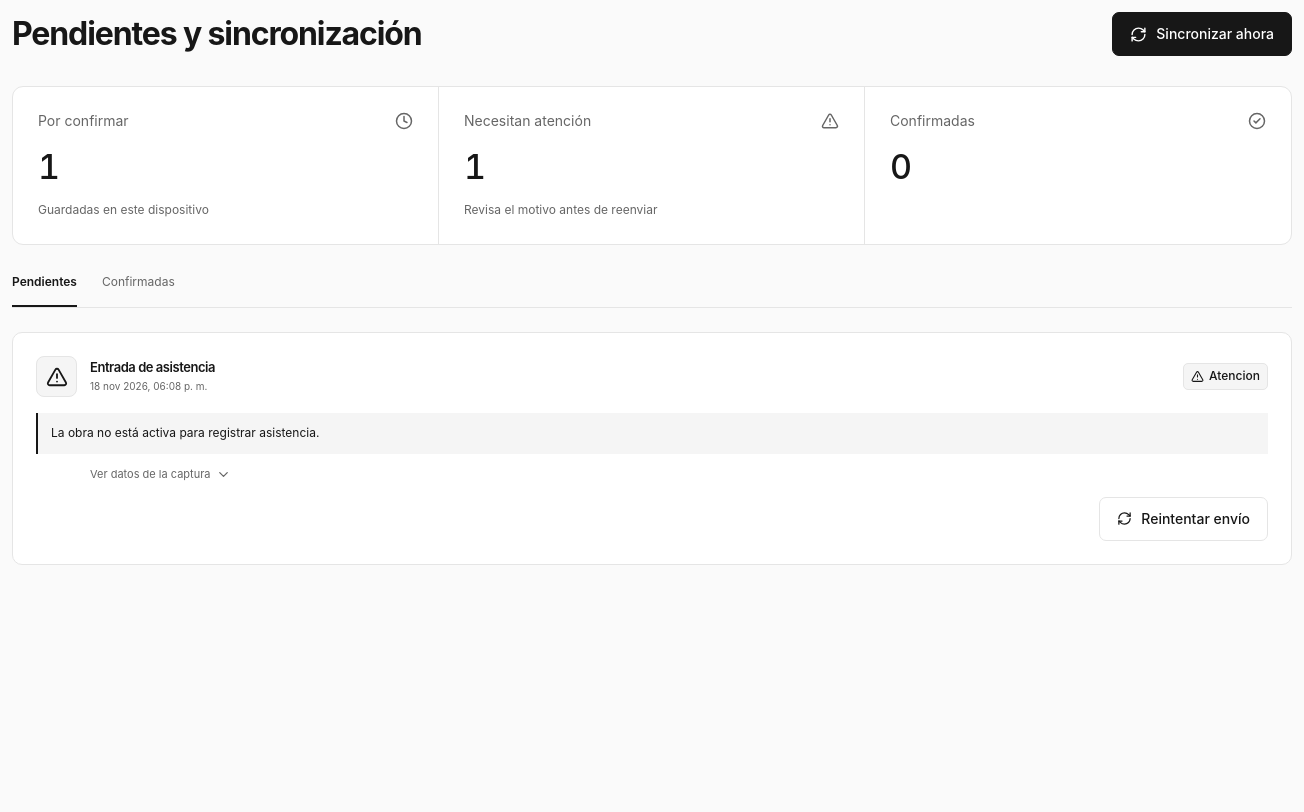
Test: conserva el motivo de un pendiente y muestra fechas legibles sin volcar el envío
Expected: the text "La obra no está activa para registrar asistencia." is shown, [36,413,1268,454]
Click the heading "Ver datos de la captura" at (161, 474), box [90,467,232,482]
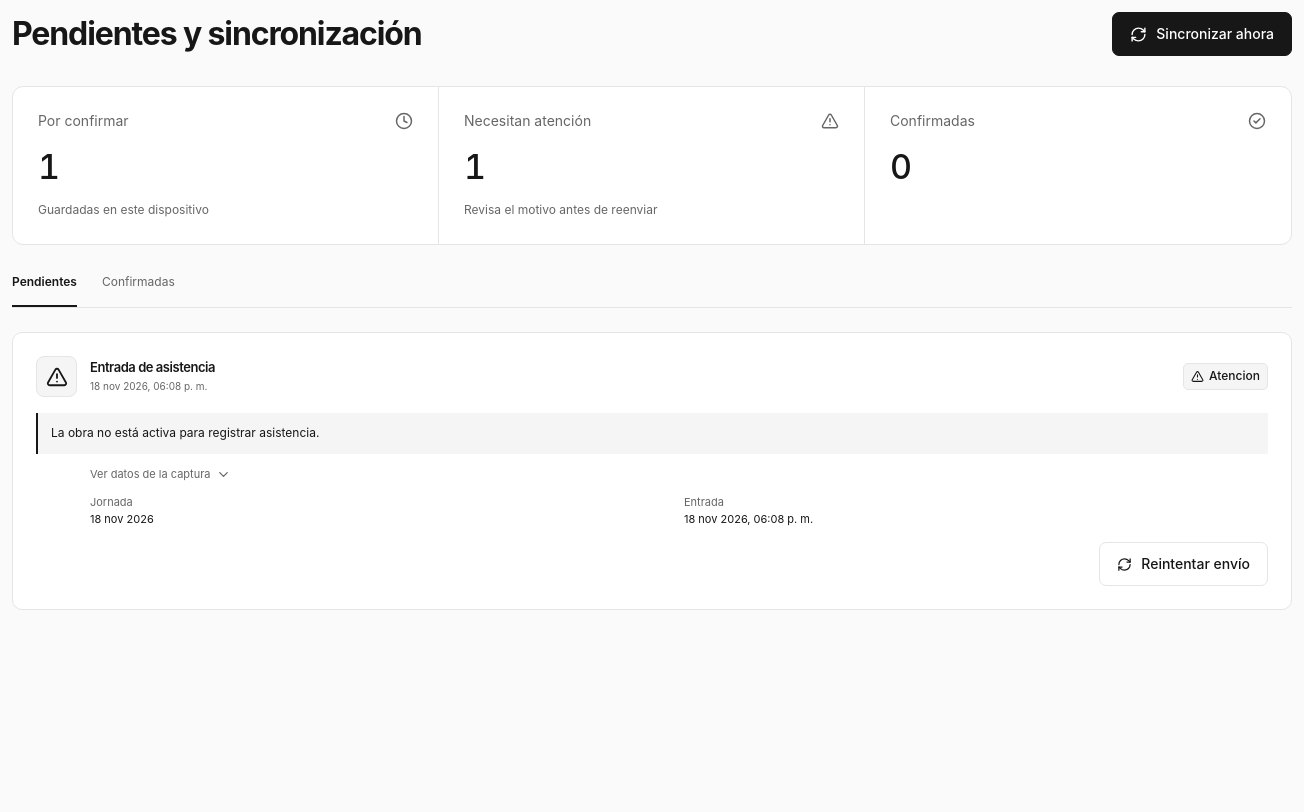
Expected: the text "06:08" is shown, [90,380,207,392]
Expected: the text "Entrada" is shown, [684,495,724,509]
